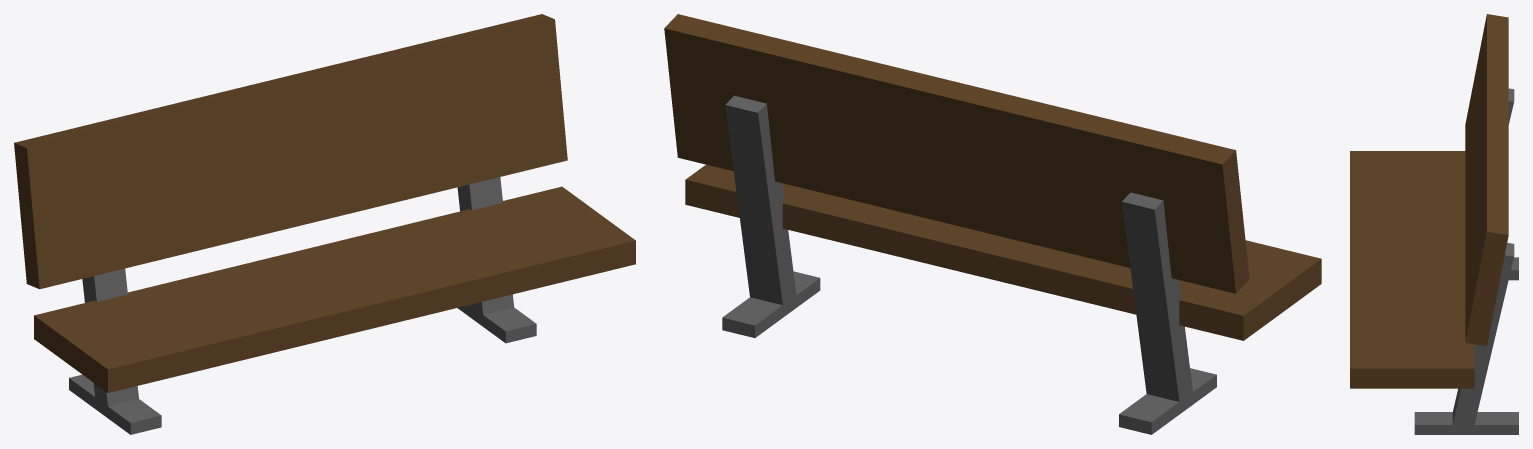
File: Bench.fbx
3 renders of one model, left to right at view 1: azimuth 30°, elevation 25°; view 2: azimuth 150°, elevation 25°; view 3: azimuth 270°, elevation 25°, orthographic. The views are drawn at different scales.
Parts seen in each view (by area): view 1: Bench; view 2: Bench; view 3: Bench.
Boxes of the visible parts, x1,y1,x2,y2 form: Bench: [14, 14, 635, 434]; Bench: [664, 14, 1321, 434]; Bench: [1350, 14, 1518, 434].
Size of the model in its own units: 2.63 by 1.28 by 0.8605.
